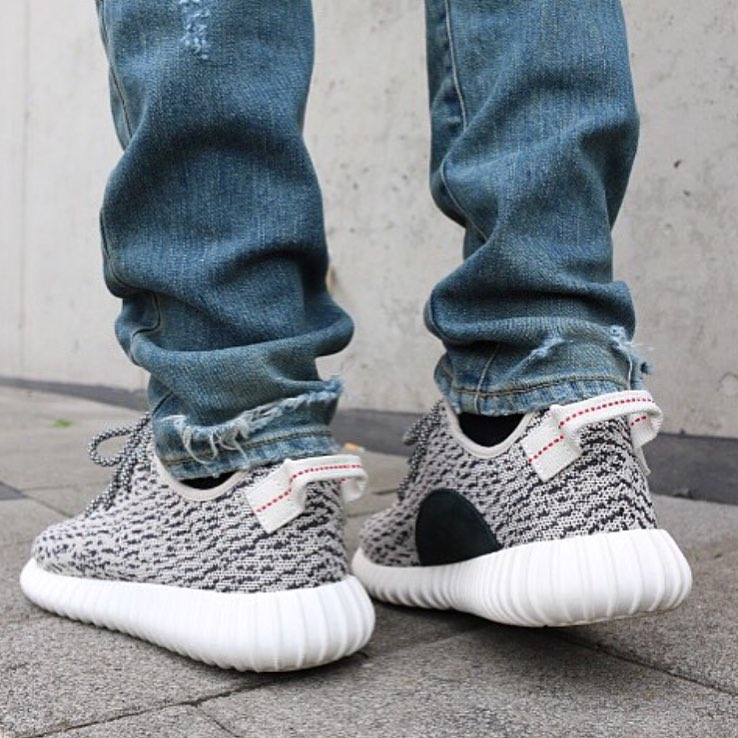sneaker: (328, 371, 708, 668), (1, 418, 400, 691)
